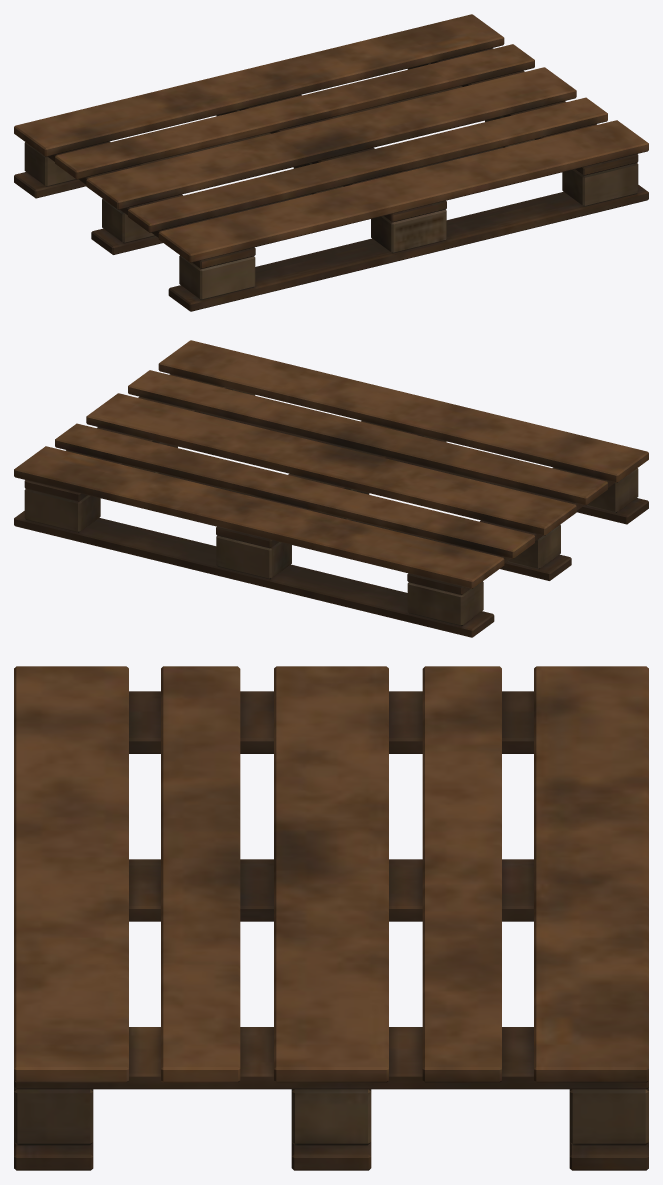
Rendered from pallet.glb.
3 renders of one model, top to bottom at view 1: azimuth 30°, elevation 25°; view 2: azimuth 150°, elevation 25°; view 3: azimuth 270°, elevation 25°, orthographic. The views are drawn at different scales.
Visible parts, largest first — view 1: pallet; view 2: pallet; view 3: pallet.
Boxes of the visible parts, x1,y1,x2,y2 form: pallet: (14,14,648,311); pallet: (14,340,648,637); pallet: (14,666,648,1170).
Size of what is drawn, in the model's own units: 1.2 by 0.144 by 0.8.
1 material, 1 textured.
